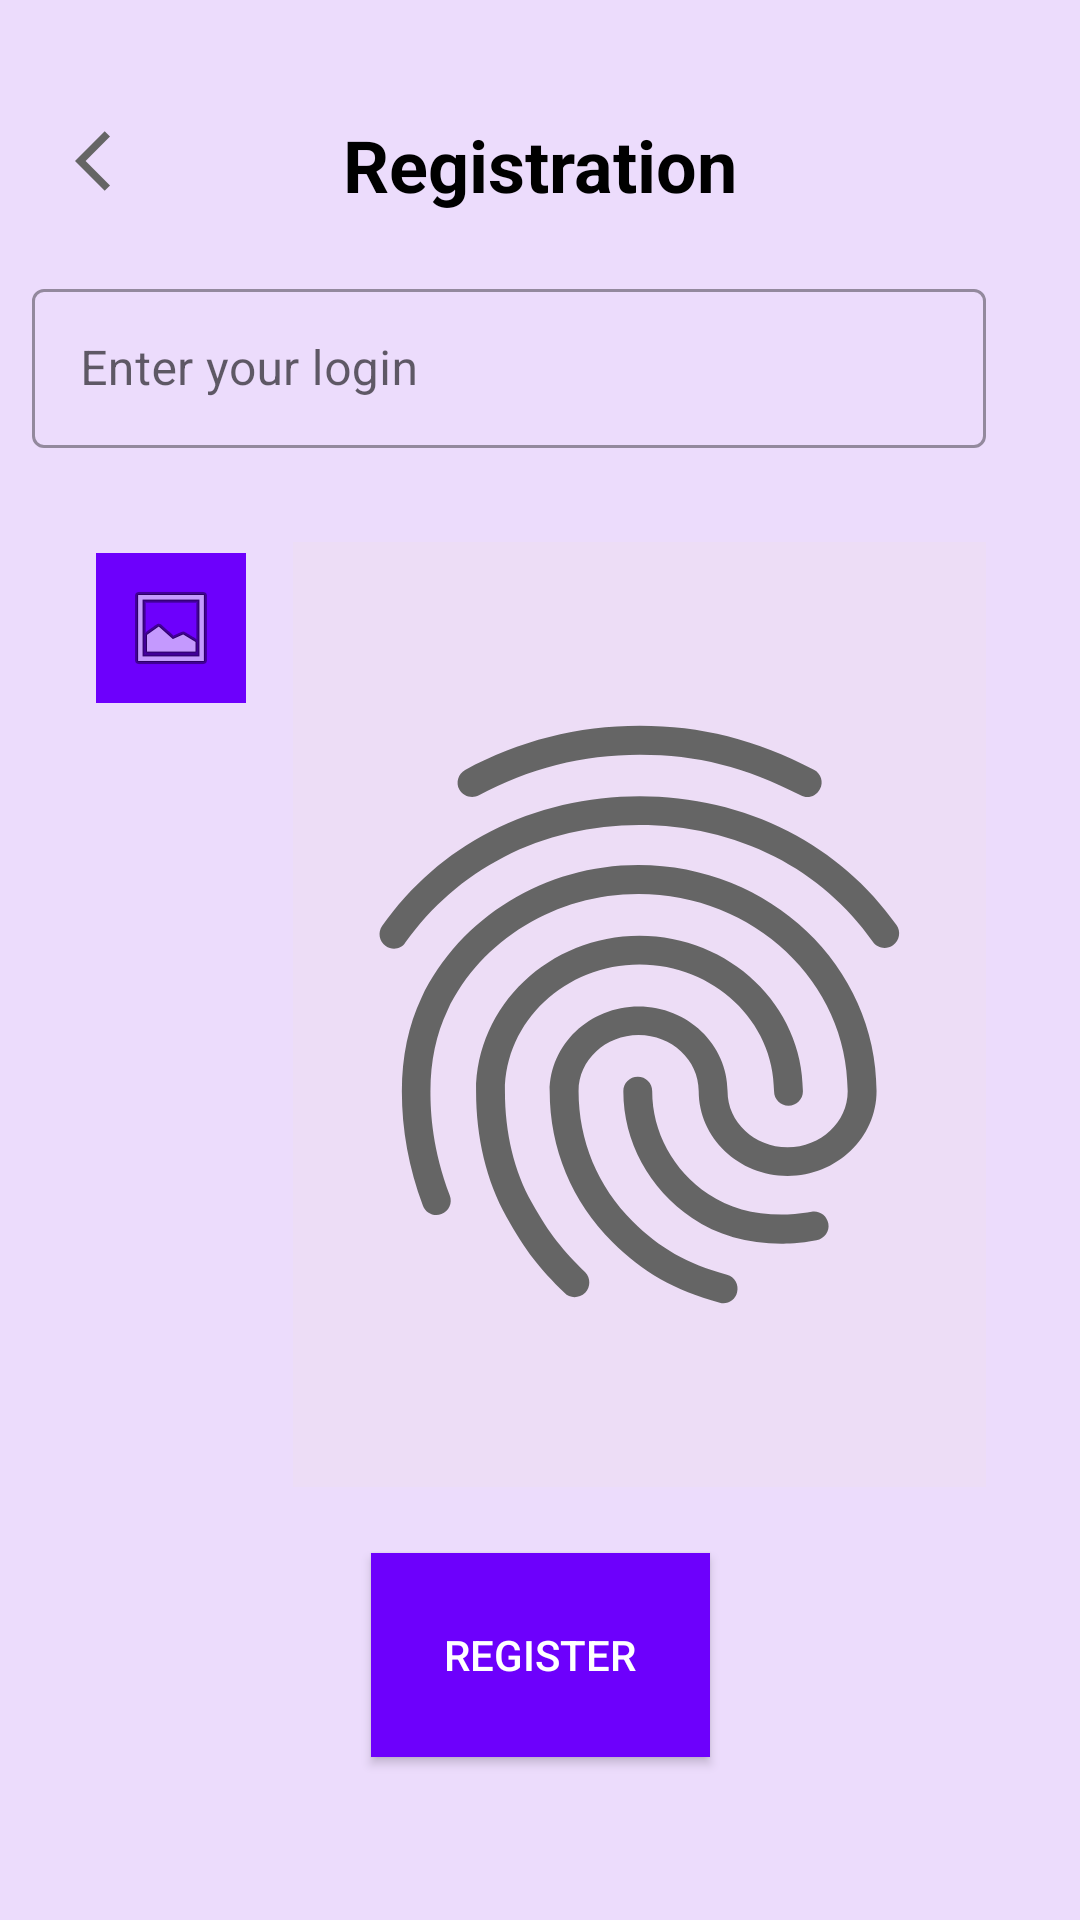

Screen size 1080x1920. Icon name, then its box in pixels as Rect(x1, y1, x2, y2):
back arrow: Rect(75, 131, 110, 191)
opengallery: Rect(96, 553, 246, 703)
